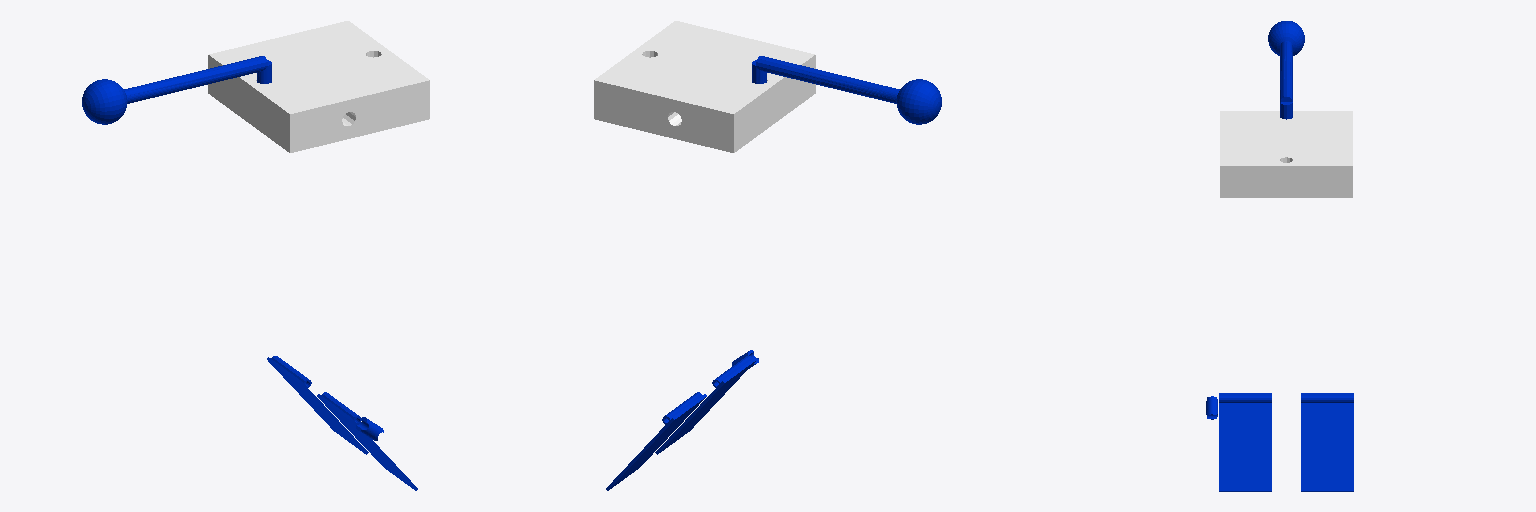
URDF robot description (BodyWithTail):
<?xml version="1.0" encoding="utf-8"?>
<!-- This URDF was automatically created by SolidWorks to URDF Exporter! Originally created by [author] ([email redacted]) 
     Commit Version: 1.5.0-0-g9aa0fdb  Build Version: 1.5.7004.21443
     For more information, please see http://wiki.ros.org/sw_urdf_exporter -->
<robot
  name="BodyWithTail">
  <link
    name="base_link">
    <inertial>
      <origin
        xyz="0.00122383806382909 -3.18638652805806E-17 0.0659595203814596"
        rpy="0 0 0" />
      <mass
        value="244.9329927506" />
      <inertia
        ixx="5.55262025860006"
        ixy="8.9914517525137E-16"
        ixz="-0.000394714970341266"
        iyy="5.44179501990665"
        iyz="-2.98545951103024E-16"
        izz="10.2631638380994" />
    </inertial>
    <visual>
      <origin
        xyz="0 0 0"
        rpy="0 0 0" />
      <geometry>
        <mesh
          filename="package://BodyWithTail/meshes/base_link.STL" />
      </geometry>
      <material
        name="">
        <color
          rgba="1 1 1 1" />
      </material>
    </visual>
    <collision>
      <origin
        xyz="0 0 0"
        rpy="0 0 0" />
      <geometry>
        <mesh
          filename="package://BodyWithTail/meshes/base_link.STL" />
      </geometry>
    </collision>
  </link>
  <link
    name="Femur_L">
    <inertial>
      <origin
        xyz="0.242203107830059 -0.00284577498225344 0.0924919582228952"
        rpy="0 0 0" />
      <mass
        value="1.0956267569314" />
      <inertia
        ixx="0.000770809917908148"
        ixy="0.000413272308722677"
        ixz="-0.00199415247363703"
        iyy="0.0359395923546767"
        iyz="2.34305677777084E-05"
        izz="0.0354701341892382" />
    </inertial>
    <visual>
      <origin
        xyz="0 0 0"
        rpy="0 0 0" />
      <geometry>
        <mesh
          filename="package://BodyWithTail/meshes/Femur_L.STL" />
      </geometry>
      <material
        name="">
        <color
          rgba="0.00784313725490196 0.23921568627451 0.823529411764706 1" />
      </material>
    </visual>
    <collision>
      <origin
        xyz="0 0 0"
        rpy="0 0 0" />
      <geometry>
        <mesh
          filename="package://BodyWithTail/meshes/Femur_L.STL" />
      </geometry>
    </collision>
  </link>
  <joint
    name="Hip_femur_L"
    type="continuous">
    <origin
      xyz="-0.0385868696304645 0.18 0.0672852031451373"
      rpy="-1.5707963267949 1.50458688118117 0" />
    <parent
      link="base_link" />
    <child
      link="Femur_L" />
    <axis
      xyz="0 0 1" />
    <safety_controller
      k_velocity="0" />
  </joint>
  <link
    name="Tibia_L">
    <inertial>
      <origin
        xyz="0.261668636750511 -0.00305413840682147 -0.0239999991276169"
        rpy="0 0 0" />
      <mass
        value="0.837833351696081" />
      <inertia
        ixx="0.000224729291285804"
        ixy="0.000203159080373753"
        ixz="8.62500209468091E-10"
        iyy="0.0175133040900648"
        iyz="1.47446822076631E-11"
        izz="0.0175171715862385" />
    </inertial>
    <visual>
      <origin
        xyz="0 0 0"
        rpy="0 0 0" />
      <geometry>
        <mesh
          filename="package://BodyWithTail/meshes/Tibia_L.STL" />
      </geometry>
      <material
        name="">
        <color
          rgba="0.00784313725490196 0.23921568627451 0.823529411764706 1" />
      </material>
    </visual>
    <collision>
      <origin
        xyz="0 0 0"
        rpy="0 0 0" />
      <geometry>
        <mesh
          filename="package://BodyWithTail/meshes/Tibia_L.STL" />
      </geometry>
    </collision>
  </link>
  <joint
    name="Femur_tibia_L"
    type="continuous">
    <origin
      xyz="0.557961346760059 -0.00655865516646524 0.0770000001743603"
      rpy="0 0 -0.00193315362723463" />
    <parent
      link="Femur_L" />
    <child
      link="Tibia_L" />
    <axis
      xyz="0 0 -1" />
    <safety_controller
      k_velocity="0" />
  </joint>
  <link
    name="Tarsa_L">
    <inertial>
      <origin
        xyz="-0.0158380799307015 0.027056866209929 0.0700000402077871"
        rpy="0 0 0" />
      <mass
        value="0.101531888424101" />
      <inertia
        ixx="3.76272208014452E-05"
        ixy="9.18977913987558E-06"
        ixz="-9.13107287775983E-12"
        iyy="3.74041899759607E-05"
        iyz="4.82415253344734E-13"
        izz="4.96436344707768E-05" />
    </inertial>
    <visual>
      <origin
        xyz="0 0 0"
        rpy="0 0 0" />
      <geometry>
        <mesh
          filename="package://BodyWithTail/meshes/Tarsa_L.STL" />
      </geometry>
      <material
        name="">
        <color
          rgba="0.00784313725490196 0.23921568627451 0.823529411764706 1" />
      </material>
    </visual>
    <collision>
      <origin
        xyz="0 0 0"
        rpy="0 0 0" />
      <geometry>
        <mesh
          filename="package://BodyWithTail/meshes/Tarsa_L.STL" />
      </geometry>
    </collision>
  </link>
  <joint
    name="Tibia_tarsa_L"
    type="continuous">
    <origin
      xyz="0.507031720085334 -0.00595264631811062 -0.0469999948873179"
      rpy="0 0 -0.011749059834896" />
    <parent
      link="Tibia_L" />
    <child
      link="Tarsa_L" />
    <axis
      xyz="0 0 -1" />
    <safety_controller
      k_velocity="0" />
  </joint>
  <link
    name="Foot_L">
    <inertial>
      <origin
        xyz="-0.134046955227231 -0.0400232687764869 -0.149551845220791"
        rpy="0 0 0" />
      <mass
        value="0.834771497095713" />
      <inertia
        ixx="0.00329402342120859"
        ixy="-0.00225499866549155"
        ixz="4.00642090444431E-10"
        iyy="0.0132217193918293"
        iyz="2.89352006802991E-10"
        izz="0.0109505994990664" />
    </inertial>
    <visual>
      <origin
        xyz="0 0 0"
        rpy="0 0 0" />
      <geometry>
        <mesh
          filename="package://BodyWithTail/meshes/Foot_L.STL" />
      </geometry>
      <material
        name="">
        <color
          rgba="0.00784313725490196 0.23921568627451 0.823529411764706 1" />
      </material>
    </visual>
    <collision>
      <origin
        xyz="0 0 0"
        rpy="0 0 0" />
      <geometry>
        <mesh
          filename="package://BodyWithTail/meshes/Foot_L.STL" />
      </geometry>
    </collision>
  </link>
  <joint
    name="Tarsa_foot_L"
    type="continuous">
    <origin
      xyz="-0.0329011655010585 0.0443579715782456 0.0929999850227678"
      rpy="0 0 2.34919273330007" />
    <parent
      link="Tarsa_L" />
    <child
      link="Foot_L" />
    <axis
      xyz="0 0 0.999999999999996" />
    <safety_controller
      k_velocity="0" />
  </joint>
  <link
    name="Femur_R">
    <inertial>
      <origin
        xyz="0.242203107594868 -0.00284577821776226 -0.0924919582317857"
        rpy="0 0 0" />
      <mass
        value="1.09562675424786" />
      <inertia
        ixx="0.000770809907869584"
        ixy="0.000413271827180529"
        ixz="0.00199415248143469"
        iyy="0.0359395923291157"
        iyz="-2.34302735430893E-05"
        izz="0.0354701341468065" />
    </inertial>
    <visual>
      <origin
        xyz="0 0 0"
        rpy="0 0 0" />
      <geometry>
        <mesh
          filename="package://BodyWithTail/meshes/Femur_R.STL" />
      </geometry>
      <material
        name="">
        <color
          rgba="0.00784313725490196 0.23921568627451 0.823529411764706 1" />
      </material>
    </visual>
    <collision>
      <origin
        xyz="0 0 0"
        rpy="0 0 0" />
      <geometry>
        <mesh
          filename="package://BodyWithTail/meshes/Femur_R.STL" />
      </geometry>
    </collision>
  </link>
  <joint
    name="Hips_femur_R"
    type="continuous">
    <origin
      xyz="-0.0385868696304645 -0.18 0.0672852031451373"
      rpy="-1.5707963267949 1.50458688118117 0" />
    <parent
      link="base_link" />
    <child
      link="Femur_R" />
    <axis
      xyz="0 0 1" />
    <safety_controller
      k_velocity="0" />
  </joint>
  <link
    name="Tibia_R">
    <inertial>
      <origin
        xyz="0.261668641621138 -0.00305415187488046 0.0239999993678786"
        rpy="0 0 0" />
      <mass
        value="0.837833381982962" />
      <inertia
        ixx="0.000224729299568724"
        ixy="0.000203161324382621"
        ixz="-9.6231507005878E-10"
        iyy="0.0175133046826421"
        iyz="6.79629889802033E-11"
        izz="0.0175171721226335" />
    </inertial>
    <visual>
      <origin
        xyz="0 0 0"
        rpy="0 0 0" />
      <geometry>
        <mesh
          filename="package://BodyWithTail/meshes/Tibia_R.STL" />
      </geometry>
      <material
        name="">
        <color
          rgba="0.00784313725490196 0.23921568627451 0.823529411764706 1" />
      </material>
    </visual>
    <collision>
      <origin
        xyz="0 0 0"
        rpy="0 0 0" />
      <geometry>
        <mesh
          filename="package://BodyWithTail/meshes/Tibia_R.STL" />
      </geometry>
    </collision>
  </link>
  <joint
    name="Femur_tibia_R"
    type="continuous">
    <origin
      xyz="0.557961346760059 -0.00655865516646524 -0.0770000001743603"
      rpy="0 0 -0.00193315362723463" />
    <parent
      link="Femur_R" />
    <child
      link="Tibia_R" />
    <axis
      xyz="0 0 1" />
    <safety_controller
      k_velocity="0" />
  </joint>
  <link
    name="Tarsa_R">
    <inertial>
      <origin
        xyz="-0.0158380799307016 -0.0270568662099289 0.0700000402077869"
        rpy="0 0 0" />
      <mass
        value="0.1015318884241" />
      <inertia
        ixx="3.76272208014451E-05"
        ixy="-9.18977913987556E-06"
        ixz="-9.13107292460232E-12"
        iyy="3.74041899759607E-05"
        iyz="-4.82415262471805E-13"
        izz="4.96436344707768E-05" />
    </inertial>
    <visual>
      <origin
        xyz="0 0 0"
        rpy="0 0 0" />
      <geometry>
        <mesh
          filename="package://BodyWithTail/meshes/Tarsa_R.STL" />
      </geometry>
      <material
        name="">
        <color
          rgba="0.00784313725490196 0.23921568627451 0.823529411764706 1" />
      </material>
    </visual>
    <collision>
      <origin
        xyz="0 0 0"
        rpy="0 0 0" />
      <geometry>
        <mesh
          filename="package://BodyWithTail/meshes/Tarsa_R.STL" />
      </geometry>
    </collision>
  </link>
  <joint
    name="Tibia_tarsa_R"
    type="continuous">
    <origin
      xyz="0.507031720085334 -0.00595264631811062 0.0469999948873179"
      rpy="3.14159265358979 0 -0.011749059834896" />
    <parent
      link="Tibia_R" />
    <child
      link="Tarsa_R" />
    <axis
      xyz="0 0 -1" />
    <safety_controller
      k_velocity="0" />
  </joint>
  <link
    name="Foot_R">
    <inertial>
      <origin
        xyz="-0.134046955227231 -0.0400232687764865 0.149551845220791"
        rpy="0 0 0" />
      <mass
        value="0.834771497095712" />
      <inertia
        ixx="0.00329402342120859"
        ixy="-0.00225499866549155"
        ixz="-4.00642090647038E-10"
        iyy="0.0132217193918293"
        iyz="-2.89352007986026E-10"
        izz="0.0109505994990664" />
    </inertial>
    <visual>
      <origin
        xyz="0 0 0"
        rpy="0 0 0" />
      <geometry>
        <mesh
          filename="package://BodyWithTail/meshes/Foot_R.STL" />
      </geometry>
      <material
        name="">
        <color
          rgba="0.00784313725490196 0.23921568627451 0.823529411764706 1" />
      </material>
    </visual>
    <collision>
      <origin
        xyz="0 0 0"
        rpy="0 0 0" />
      <geometry>
        <mesh
          filename="package://BodyWithTail/meshes/Foot_R.STL" />
      </geometry>
    </collision>
  </link>
  <joint
    name="Tarsa_foot_R"
    type="continuous">
    <origin
      xyz="-0.0329011655010585 -0.0443579715782456 0.0929999850227679"
      rpy="-3.14159259521135 0 -2.34919273330007" />
    <parent
      link="Tarsa_R" />
    <child
      link="Foot_R" />
    <axis
      xyz="0 0 -0.999999999999996" />
    <safety_controller
      k_velocity="0" />
  </joint>
  <link
    name="Tail">
    <inertial>
      <origin
        xyz="0.421457332725084 -9.67276904467562E-10 -0.0568211726179445"
        rpy="0 0 0" />
      <mass
        value="2.43669066002775" />
      <inertia
        ixx="0.00361500190357776"
        ixy="-7.00435857004311E-10"
        ixz="0.00346870361655754"
        iyy="0.102575187379763"
        iyz="1.22087694850174E-10"
        izz="0.102066233974879" />
    </inertial>
    <visual>
      <origin
        xyz="0 0 0"
        rpy="0 0 0" />
      <geometry>
        <mesh
          filename="package://BodyWithTail/meshes/Tail.STL" />
      </geometry>
      <material
        name="">
        <color
          rgba="0.00784313725490196 0.23921568627451 0.823529411764706 1" />
      </material>
    </visual>
    <collision>
      <origin
        xyz="0 0 0"
        rpy="0 0 0" />
      <geometry>
        <mesh
          filename="package://BodyWithTail/meshes/Tail.STL" />
      </geometry>
    </collision>
  </link>
  <joint
    name="Hips_Tail"
    type="continuous">
    <origin
      xyz="-0.193717960242815 0 0.132"
      rpy="3.14159265358979 0 3.14159265358979" />
    <parent
      link="base_link" />
    <child
      link="Tail" />
    <axis
      xyz="0 0 1" />
    <safety_controller
      k_velocity="0" />
  </joint>
</robot>

--- Facts derived from the render (not from the file) ---
The picture shows the robot from 3 angles, left to right: view 1: azimuth 30°, elevation 25°; view 2: azimuth 150°, elevation 25°; view 3: azimuth 270°, elevation 25°; orthographic projection.
Robot: BodyWithTail — 10 links, 9 joints (9 continuous); root link base_link; default pose: all joints at 0.
Links seen in each view (by area): view 1: base_link, Tail, Foot_L, Foot_R; view 2: base_link, Tail, Foot_L, Foot_R; view 3: base_link, Foot_L, Foot_R, Tail.
Boxes of the visible links, left/top/right/bottom form: base_link: left=208, top=21, right=429, bottom=152; Tail: left=82, top=56, right=271, bottom=124; Foot_L: left=267, top=356, right=368, bottom=454; Foot_R: left=317, top=392, right=417, bottom=490; base_link: left=594, top=21, right=815, bottom=152; Tail: left=752, top=56, right=941, bottom=124; Foot_L: left=606, top=392, right=706, bottom=490; Foot_R: left=655, top=356, right=756, bottom=454; base_link: left=1220, top=111, right=1352, bottom=197; Foot_L: left=1301, top=393, right=1353, bottom=491; Foot_R: left=1219, top=393, right=1271, bottom=491; Tail: left=1268, top=21, right=1304, bottom=119.
Size in the robot's own frame: 1.08 by 0.5564 by 1.51 metres.
Meshes: 10 distinct files referenced, 5 mesh visuals loaded (5 binary STL); not drawn: 5 (reference not matched to a file when rendering).